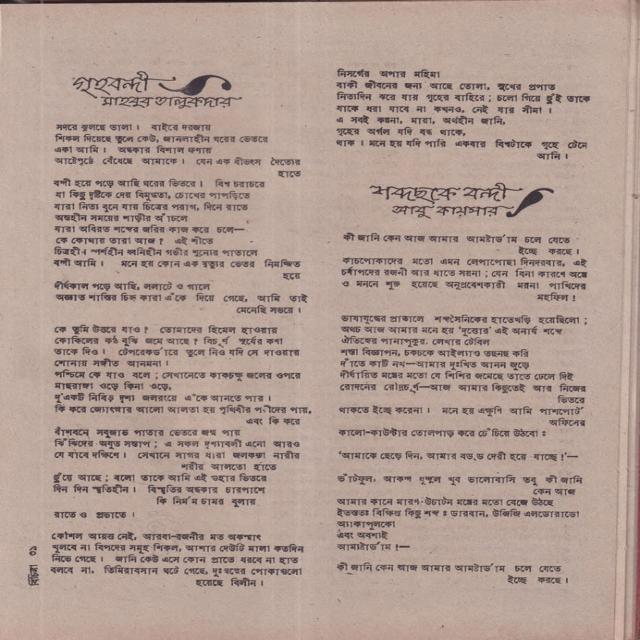page number: (18, 542, 42, 559)
paragraph: (51, 321, 319, 428), (47, 175, 310, 284), (329, 63, 598, 163), (333, 311, 593, 406), (332, 493, 586, 557), (46, 120, 308, 182), (46, 530, 308, 591), (329, 251, 593, 307), (41, 424, 304, 476), (48, 279, 312, 319), (47, 470, 276, 511), (329, 402, 592, 433), (331, 558, 572, 590), (331, 470, 593, 497), (339, 229, 584, 257), (332, 449, 583, 465), (335, 425, 555, 441), (41, 507, 143, 522)
text: (98, 93, 249, 113), (389, 202, 518, 222), (19, 562, 45, 590)
title: (64, 65, 186, 101), (363, 180, 529, 205)
